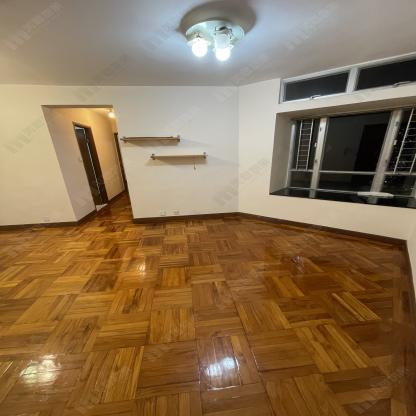Windowsill: (267, 95, 416, 209)
